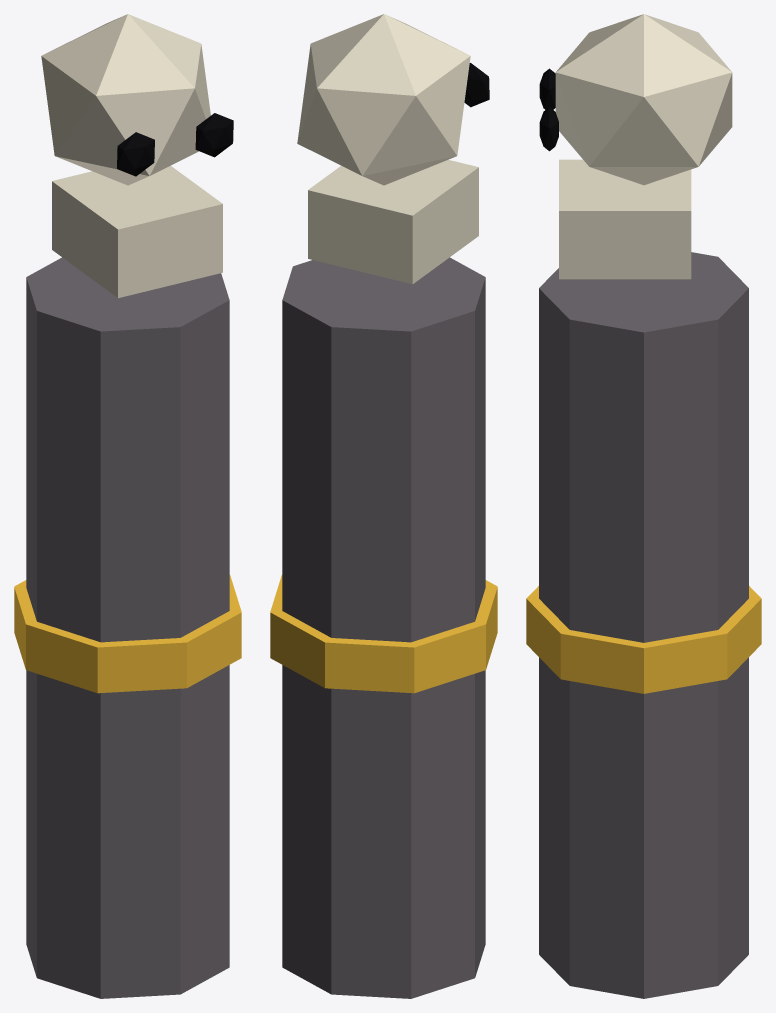
Rendered from Prop_OR_SkullTotem_09.glb.
The picture shows the model from 3 angles, left to right: view 1: azimuth 30°, elevation 25°; view 2: azimuth 150°, elevation 25°; view 3: azimuth 270°, elevation 25°; orthographic projection.
Visible parts, largest first — view 1: Prop_OR_SkullTotem_09; view 2: Prop_OR_SkullTotem_09; view 3: Prop_OR_SkullTotem_09.
Part boxes in pixels (x1,y1,x2,y2): Prop_OR_SkullTotem_09: (14, 14, 241, 998); Prop_OR_SkullTotem_09: (270, 14, 497, 998); Prop_OR_SkullTotem_09: (526, 14, 761, 998).
Size of the model in its own units: 0.56 by 2.47 by 0.56.
